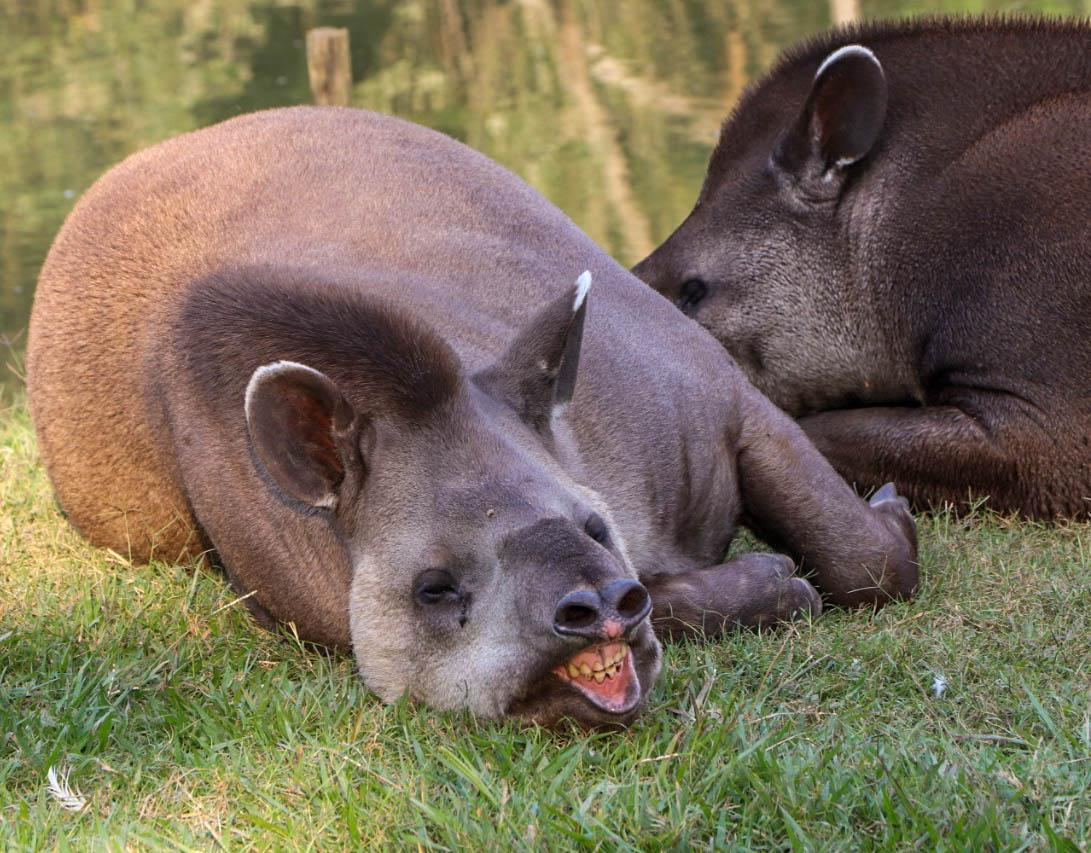Anta: (22, 88, 933, 732), (636, 23, 1087, 518)
